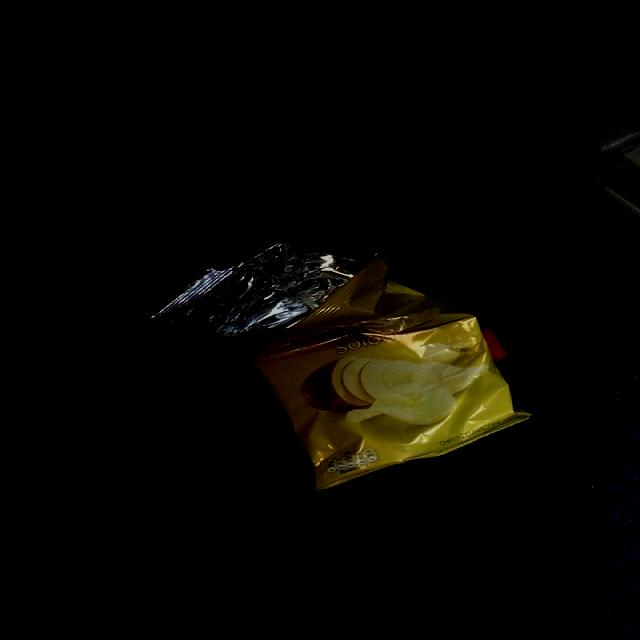Trash: (157, 237, 534, 493)
